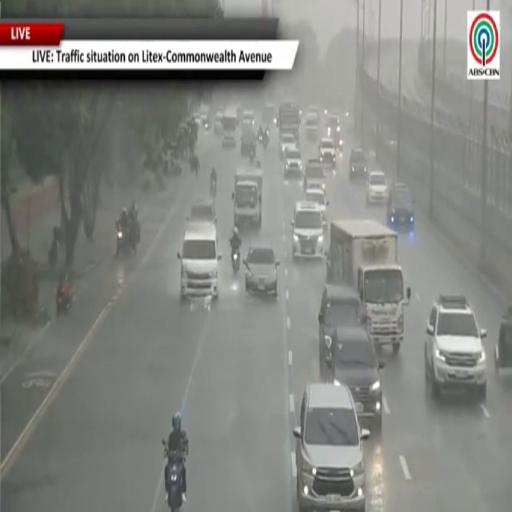car: (294, 383, 369, 511), (425, 295, 486, 399), (331, 326, 384, 431), (318, 284, 362, 378), (178, 222, 221, 299), (291, 202, 324, 258), (243, 247, 279, 296), (387, 183, 414, 231), (304, 188, 329, 225), (303, 159, 326, 193), (367, 170, 388, 204), (187, 200, 217, 223), (349, 149, 368, 182), (327, 115, 342, 154), (318, 138, 336, 168), (285, 147, 302, 178), (305, 110, 320, 140), (280, 134, 297, 158), (327, 115, 341, 139), (262, 104, 276, 124), (241, 110, 255, 128), (306, 182, 325, 195), (214, 111, 223, 135)
motorcycle: (163, 440, 187, 511), (116, 222, 136, 257), (56, 286, 74, 316), (48, 228, 60, 269), (231, 247, 240, 274), (262, 133, 269, 150), (210, 180, 216, 199), (258, 134, 263, 143)
truck: (327, 220, 410, 354), (233, 168, 262, 228), (278, 103, 300, 143), (222, 109, 238, 148), (241, 125, 256, 156)
